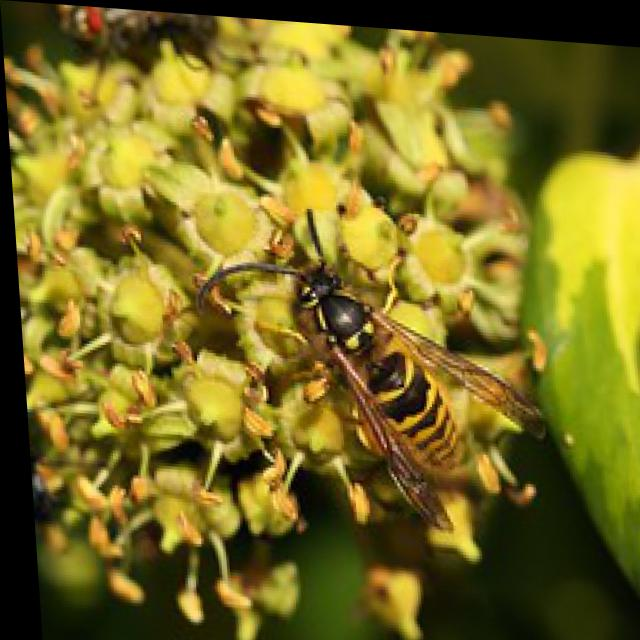Guepe: (202, 181, 572, 533)
